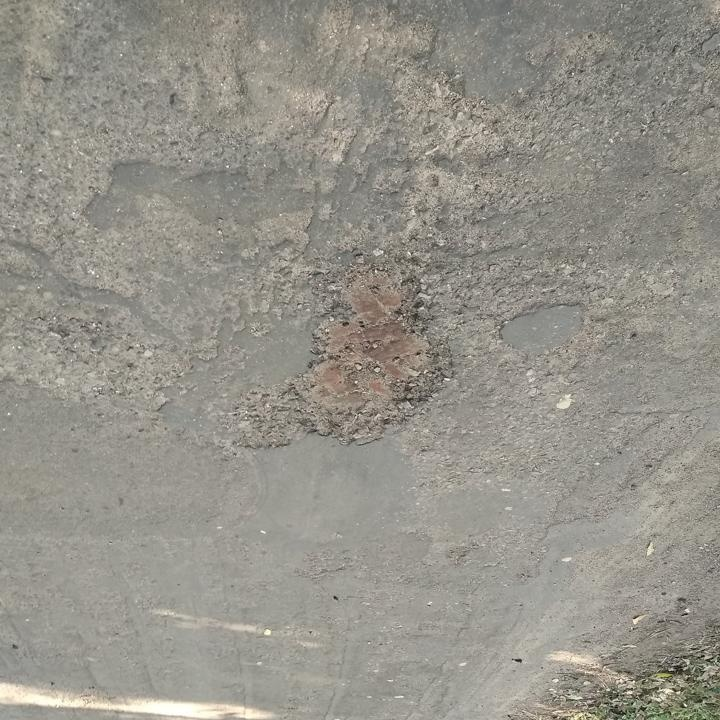pothole: (226, 255, 456, 454)
